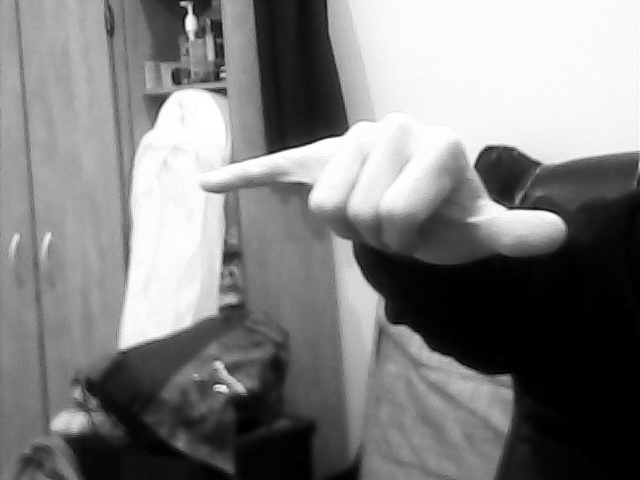aloha: (194, 113, 571, 270)
